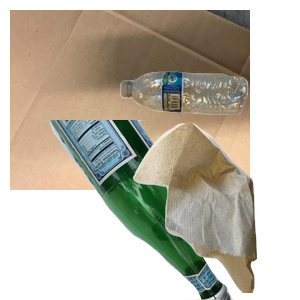cardboard: (10, 10, 250, 190)
glass: (37, 120, 262, 300)
plastic: (118, 69, 300, 176)
trash: (131, 120, 300, 300)
